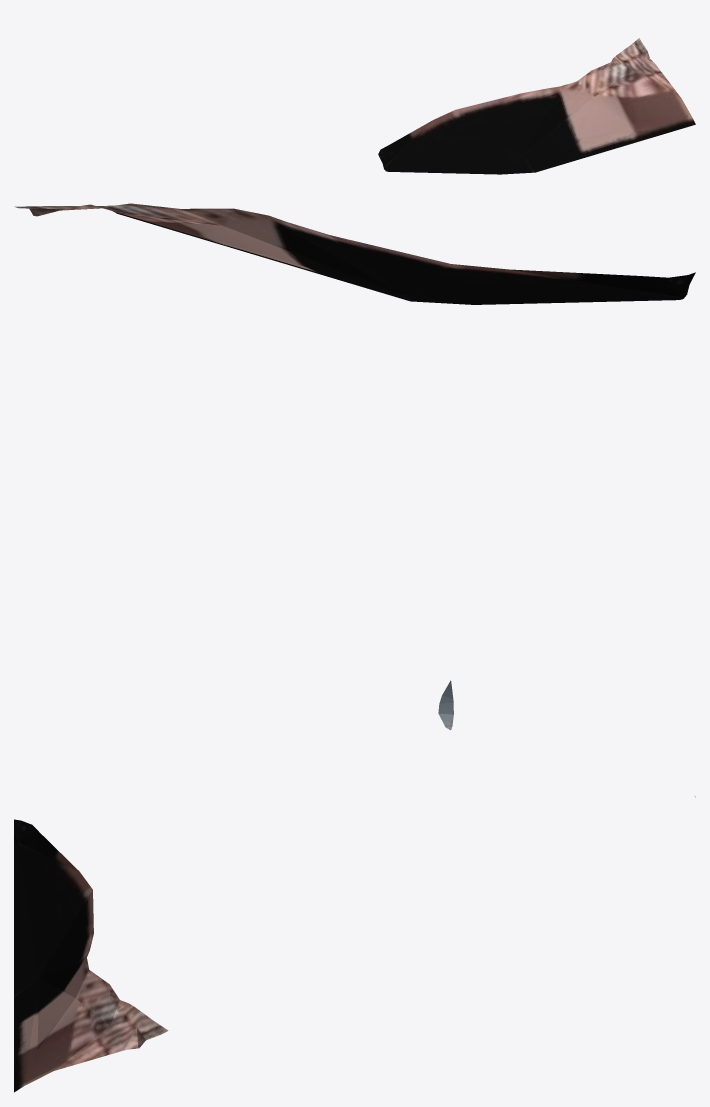
3 renders of one model, top to bottom at view 1: azimuth 30°, elevation 25°; view 2: azimuth 150°, elevation 25°; view 3: azimuth 270°, elevation 25°, orthographic. The views are drawn at different scales.
Size of the model in its own units: 6.7 by 0.8018 by 6.7.
Materials: 1 (1 with a texture image).
